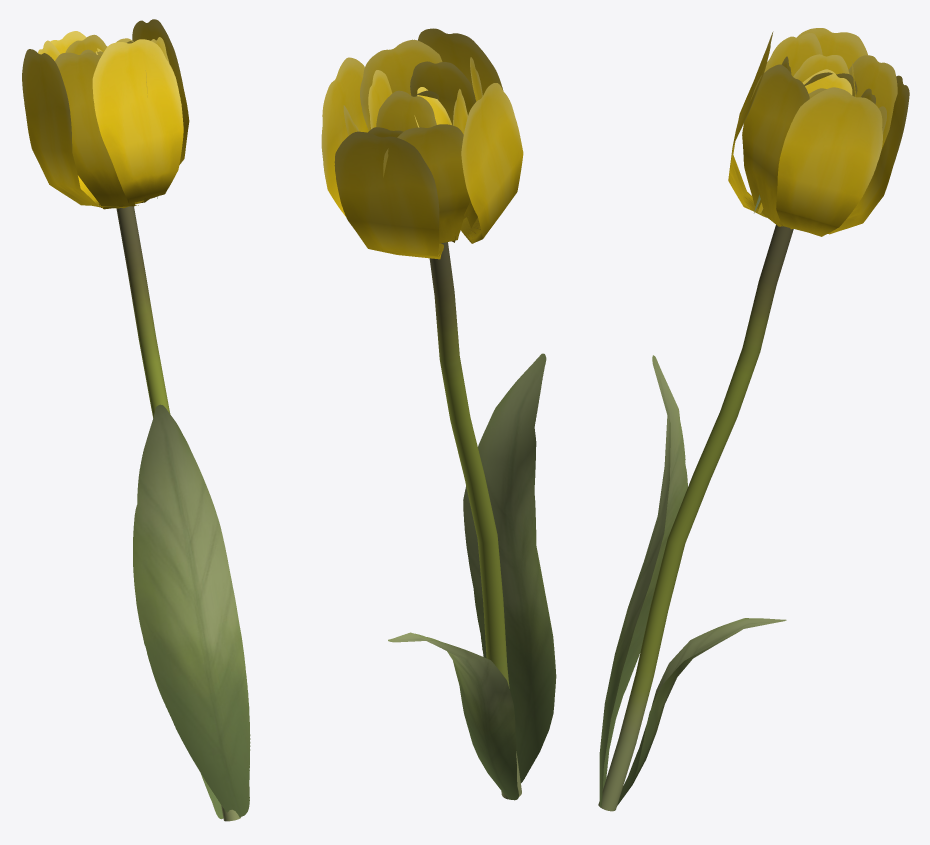
The model's file is flower.glb.
3 renders of one model, left to right at view 1: azimuth 30°, elevation 25°; view 2: azimuth 150°, elevation 25°; view 3: azimuth 270°, elevation 25°, orthographic. The views are drawn at different scales.
Parts seen in each view (by area): view 1: leaves, petal, stem; view 2: petal, leaves, stem; view 3: petal, stem, leaves.
Boxes of the visible parts, x1,y1,x2,y2 form: leaves: (133,404,250,819); petal: (22,19,189,209); stem: (116,206,240,821); petal: (321,28,523,259); leaves: (388,353,556,800); stem: (429,242,521,799); petal: (728,28,909,236); stem: (598,225,793,811); leaves: (599,355,786,807).
Bounding box in the file's own units: 0.00484 × 0.0249 × 0.00928.
3 materials, 3 textured.
